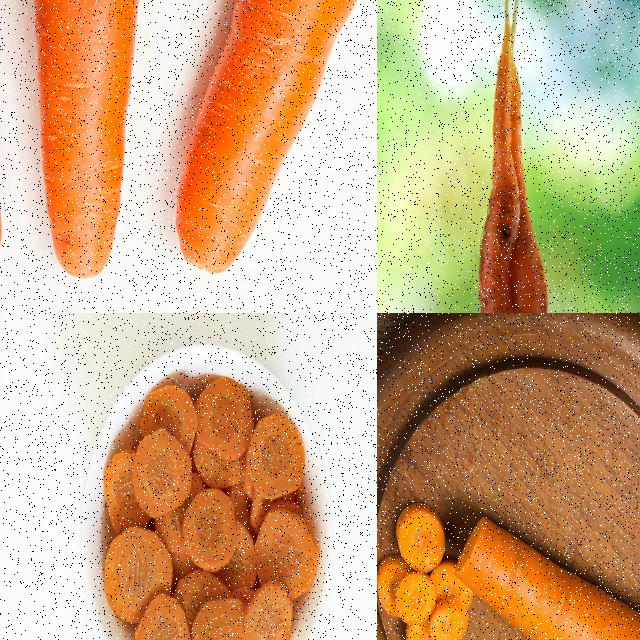carrot: (92, 379, 319, 639), (171, 0, 376, 283), (25, 0, 151, 282), (475, 0, 557, 312), (452, 514, 639, 639), (377, 501, 477, 639)
